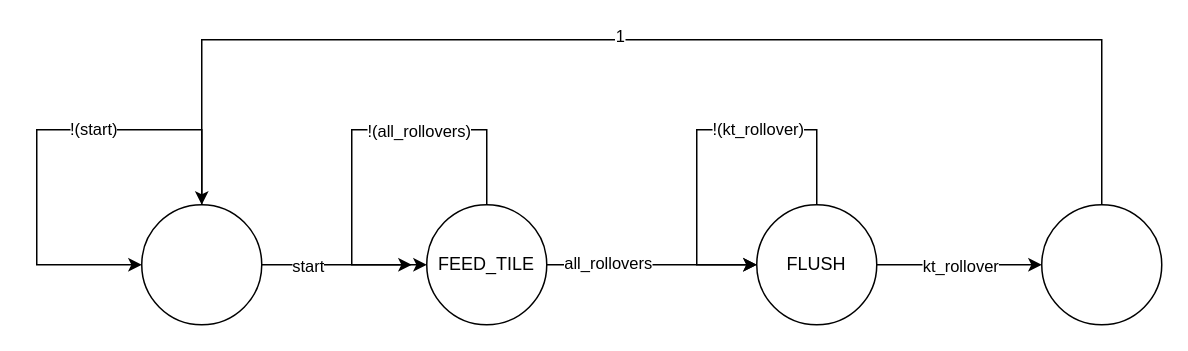
The diagram is 1188 pixels wide and 351 high, and some of its shapes have lost their labels. Here are the shapes that lost their labels. From the top down, the box of each, then its label:
(140, 203, 262, 325): IDLE
(1040, 203, 1162, 325): DONE
